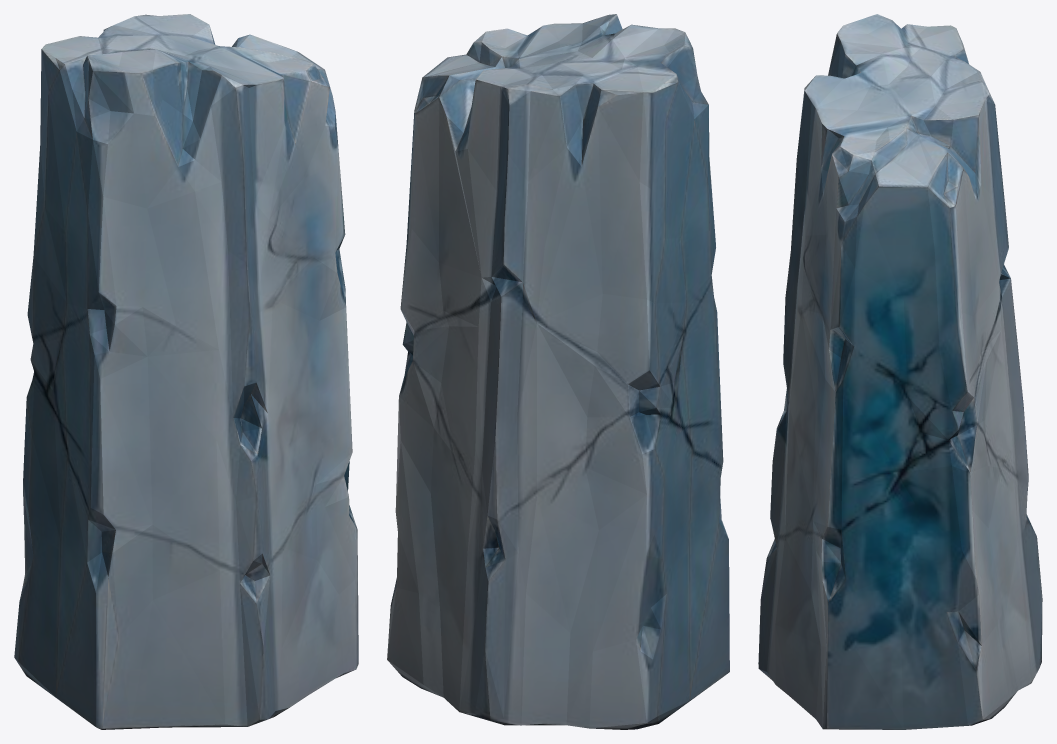
Rendered from ice_column.glb.
3 renders of one model, left to right at view 1: azimuth 30°, elevation 25°; view 2: azimuth 150°, elevation 25°; view 3: azimuth 270°, elevation 25°, orthographic. The views are drawn at different scales.
Visible parts, largest first — view 1: tripo_node_673ff371-a68e-4875-a667-ef7066c8e78a.001; view 2: tripo_node_673ff371-a68e-4875-a667-ef7066c8e78a.001; view 3: tripo_node_673ff371-a68e-4875-a667-ef7066c8e78a.001.
Boxes of the visible parts, bbox=[...] form: tripo_node_673ff371-a68e-4875-a667-ef7066c8e78a.001: bbox=[14, 14, 358, 729]; tripo_node_673ff371-a68e-4875-a667-ef7066c8e78a.001: bbox=[387, 14, 729, 729]; tripo_node_673ff371-a68e-4875-a667-ef7066c8e78a.001: bbox=[758, 14, 1042, 729].
Size of the model in its own units: 0.4224 by 0.9801 by 0.4147.
Materials: 1 (1 with a texture image).
